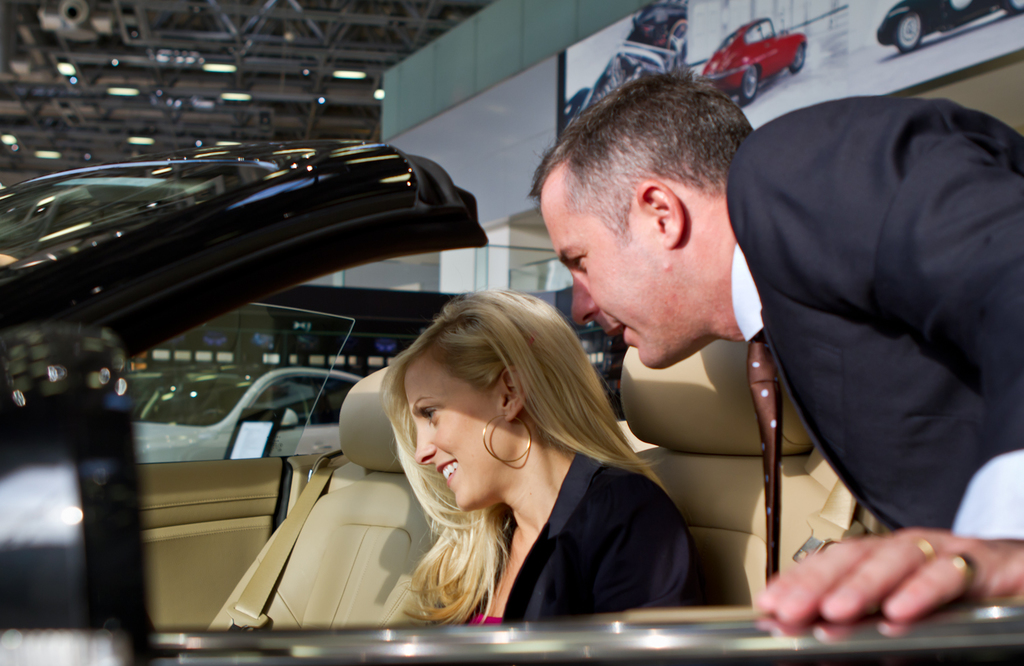Car: (0, 140, 1023, 665), (129, 366, 364, 459)
